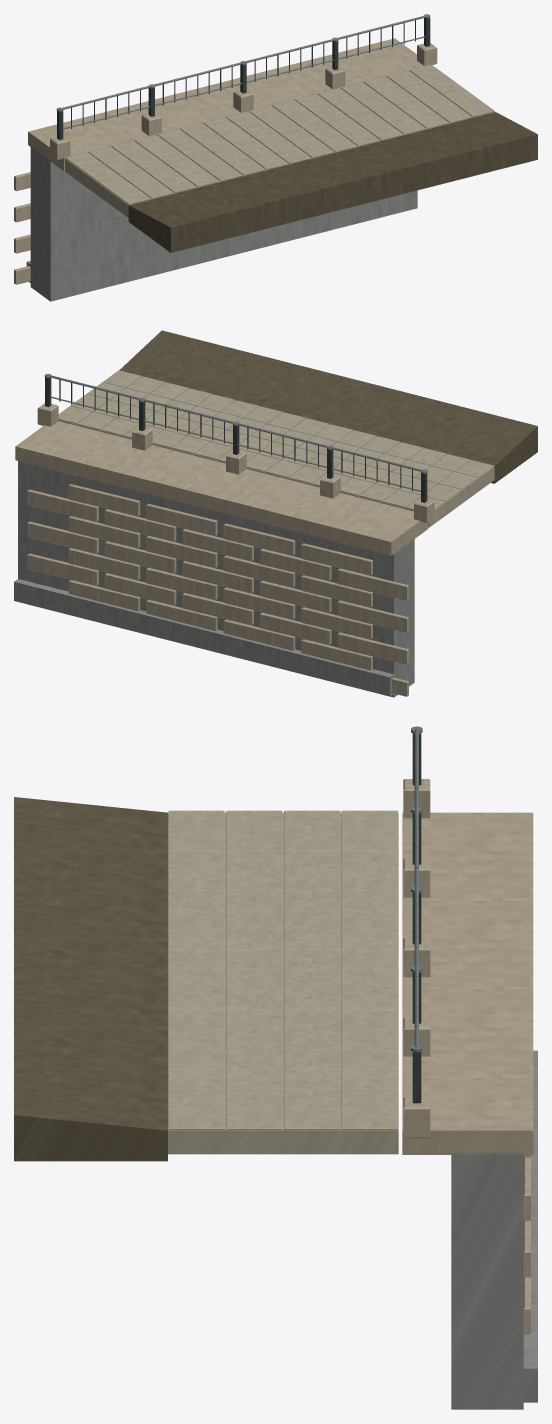
3 views of the same model, one above another, from view 1: azimuth 30°, elevation 25°; view 2: azimuth 150°, elevation 25°; view 3: azimuth 270°, elevation 25° (orthographic). The views are drawn at different scales.
Parts seen in each view (by area): view 1: VIS_Landward_Grade_Transition, VIS_Retaining_Wall_Solid, VIS_Coping_Cap, VIS_Walkway_Slab, VIS_Parapet_Pier_0, VIS_Parapet_Pier_4, VIS_Parapet_Pier_2, VIS_Parapet_Pier_1, VIS_Parapet_Pier_3, VIS_Paver_13_3, VIS_Paver_03_3, VIS_Paver_08_3 (+61 smaller); view 2: VIS_Landward_Grade_Transition, VIS_Coping_Cap, VIS_Retaining_Wall_Solid, VIS_Footing_Plinth, VIS_Walkway_Slab, VIS_Quay_Stone_R07_C01, VIS_Quay_Stone_R07_C03, VIS_Quay_Stone_R04_C00, VIS_Quay_Stone_R06_C00, VIS_Quay_Stone_R02_C00, VIS_Quay_Stone_R07_C00, VIS_Quay_Stone_R07_C02 (+25 smaller); view 3: VIS_Landward_Grade_Transition, VIS_Coping_Cap, VIS_Retaining_Wall_Solid, VIS_Walkway_Slab, VIS_Footing_Plinth, VIS_Paver_15_0, VIS_Paver_15_1, VIS_Paver_15_2, VIS_Paver_15_3, VIS_Paver_00_0, VIS_Paver_00_1, VIS_Paver_00_3 (+62 smaller).
Part boxes in pixels (x1,y1,x2,y2): VIS_Landward_Grade_Transition: (128, 112, 537, 252); VIS_Retaining_Wall_Solid: (30, 146, 417, 301); VIS_Coping_Cap: (28, 38, 430, 171); VIS_Walkway_Slab: (65, 76, 494, 217); VIS_Parapet_Pier_0: (50, 136, 70, 159); VIS_Parapet_Pier_4: (417, 43, 437, 65); VIS_Parapet_Pier_2: (233, 89, 253, 112); VIS_Parapet_Pier_1: (141, 113, 161, 135); VIS_Parapet_Pier_3: (325, 66, 345, 89); VIS_Paver_13_3: (411, 111, 449, 128); VIS_Paver_03_3: (182, 169, 219, 186); VIS_Paver_08_3: (296, 140, 334, 157); VIS_Landward_Grade_Transition: (119, 330, 537, 483); VIS_Coping_Cap: (15, 421, 428, 555); VIS_Retaining_Wall_Solid: (18, 461, 414, 697); VIS_Footing_Plinth: (14, 579, 395, 696); VIS_Walkway_Slab: (58, 378, 494, 527); VIS_Quay_Stone_R07_C01: (223, 523, 295, 555); VIS_Quay_Stone_R07_C03: (68, 484, 140, 516); VIS_Quay_Stone_R04_C00: (337, 600, 408, 632); VIS_Quay_Stone_R06_C00: (337, 568, 408, 600); VIS_Quay_Stone_R02_C00: (337, 632, 408, 664); VIS_Quay_Stone_R07_C00: (301, 543, 372, 575); VIS_Quay_Stone_R07_C02: (146, 504, 217, 536); VIS_Landward_Grade_Transition: (14, 797, 167, 1161); VIS_Coping_Cap: (402, 812, 533, 1154); VIS_Retaining_Wall_Solid: (451, 1152, 523, 1409); VIS_Walkway_Slab: (168, 812, 398, 1154); VIS_Footing_Plinth: (519, 1050, 537, 1402); VIS_Paver_15_0: (341, 1109, 397, 1130); VIS_Paver_15_1: (284, 1109, 340, 1130); VIS_Paver_15_2: (226, 1109, 282, 1130); VIS_Paver_15_3: (168, 1109, 224, 1130); VIS_Paver_00_0: (341, 810, 397, 830); VIS_Paver_00_1: (284, 810, 340, 830); VIS_Paver_00_3: (168, 810, 224, 830).
Bounding box in the file's own units: 8.46 × 4.25 × 5.45.
6 materials, 6 textured.
